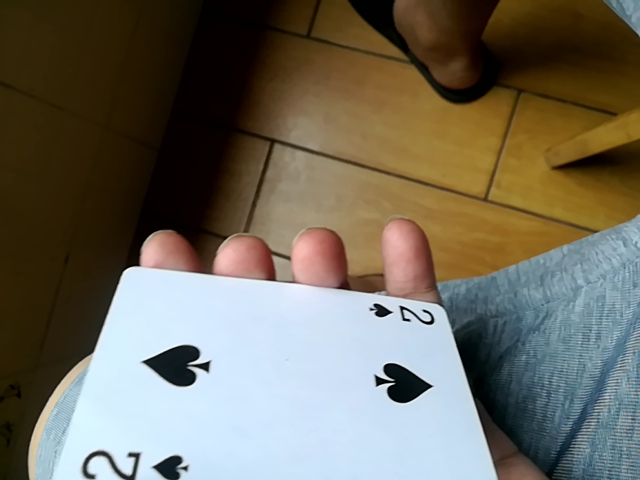ht 2: (46, 258, 502, 480)
